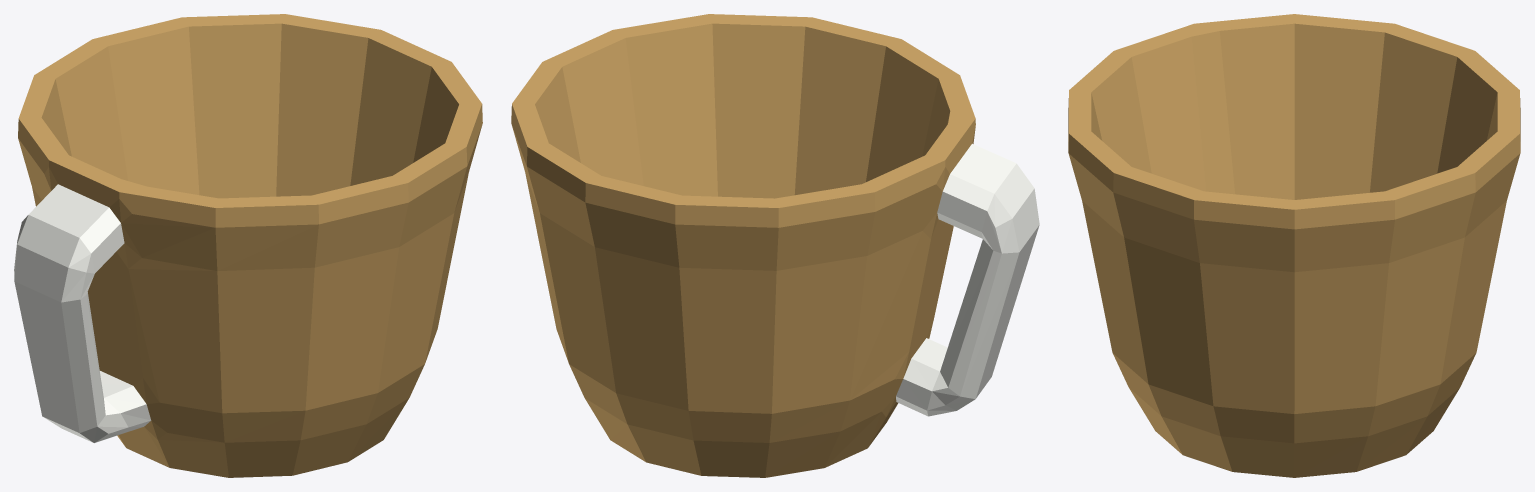
File: Chavena.FBX
3 views of the same model, side by side, from view 1: azimuth 30°, elevation 25°; view 2: azimuth 150°, elevation 25°; view 3: azimuth 270°, elevation 25° (orthographic).
Parts seen in each view (by area): view 1: Cup; view 2: Cup; view 3: Cup.
Part boxes in pixels (x1,y1,x2,y2): Cup: (14,14,482,477); Cup: (511,14,1039,477); Cup: (1068,14,1520,477).
Bounding box in the file's own units: 67.21 × 43.07 × 57.7.
